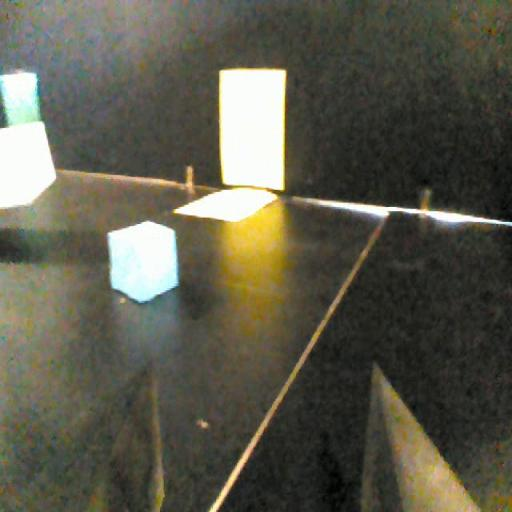cube: (106, 222, 178, 303)
